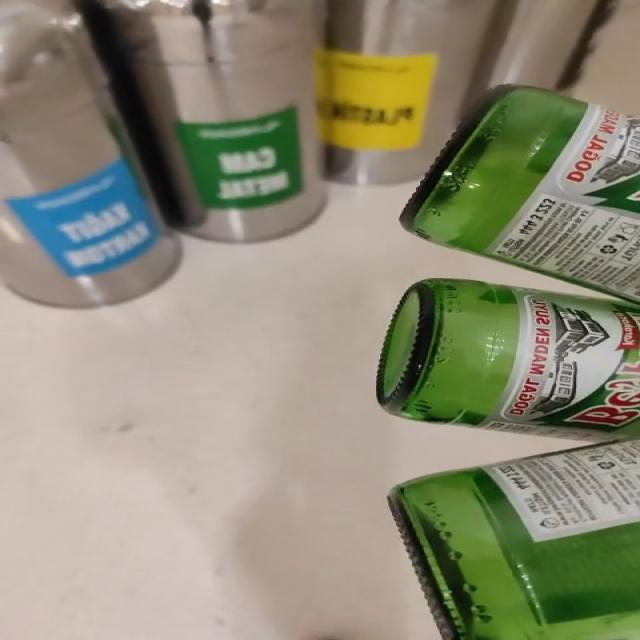Glass: (377, 279, 640, 640), (401, 85, 640, 300)
